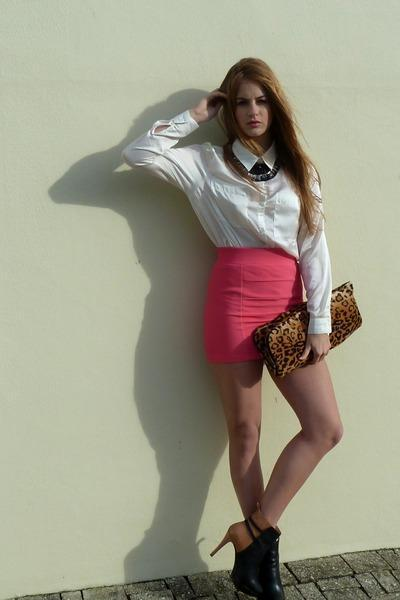bag: (251, 282, 361, 387)
shirt: (138, 110, 332, 334)
shoe: (214, 501, 279, 599)
shorts: (203, 246, 309, 363)
